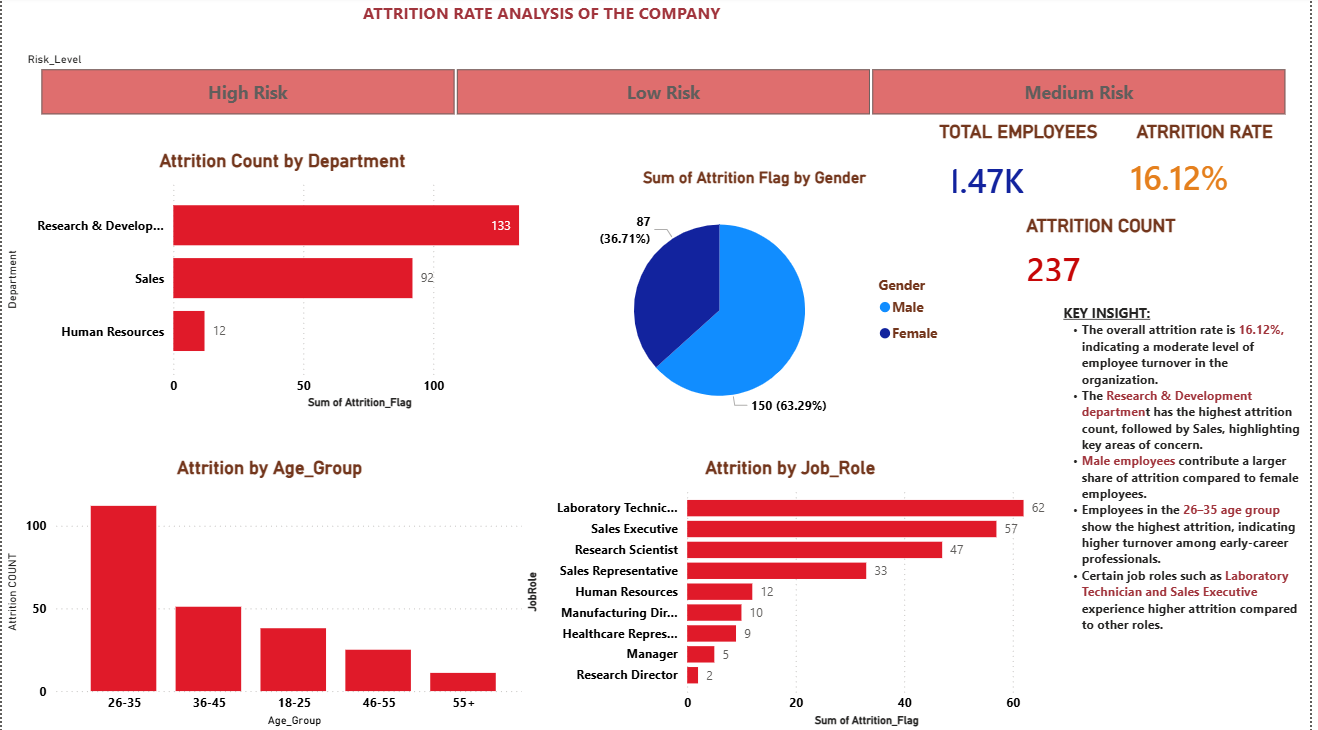

What the dashboard file says about the page in this screenshot:
{"tool":"powerbi","page":{"name":"attrition basic analysis ","canvas":[1280,720],"ordinal":0},"visuals":[{"type":"cardVisual","title":"TOTAL EMPLOYEES","fields":{"Data":["CountNonNull(WA_Fn-UseC_-HR-Employee-Attrition.EmployeeNumber)"]},"box":[905,122.5,178.8,91.2],"z":0},{"type":"cardVisual","title":"ATTRITION COUNT","fields":{"Data":["Sum(WA_Fn-UseC_-HR-Employee-Attrition.Attrition_Flag)"]},"box":[983.8,213.8,183.8,82.5],"z":1000},{"type":"cardVisual","title":"ATRRITION RATE","fields":{"Data":["WA_Fn-UseC_-HR-Employee-Attrition.Attrition Rate"]},"box":[1085,122.5,183.8,85],"z":2000},{"type":"clusteredBarChart","title":"Attrition Count by Department","fields":{"Category":["WA_Fn-UseC_-HR-Employee-Attrition.Department"],"Y":["Sum(WA_Fn-UseC_-HR-Employee-Attrition.Attrition_Flag)"]},"box":[0,150,548.8,258.8],"z":3000},{"type":"pieChart","title":"Sum of Attrition Flag by Gender","fields":{"Category":["WA_Fn-UseC_-HR-Employee-Attrition.Gender"],"Y":["Sum(WA_Fn-UseC_-HR-Employee-Attrition.Attrition_Flag)"]},"box":[541.2,168.8,388.8,260],"z":4000},{"type":"lineStackedColumnComboChart","title":"Attrition by  Age_Group","fields":{"Category":["WA_Fn-UseC_-HR-Employee-Attrition.Age_Group"],"Y":["Sum(WA_Fn-UseC_-HR-Employee-Attrition.Attrition_Flag)"]},"box":[0,451.2,523.8,268.8],"z":5000},{"type":"barChart","title":" Attrition by Job_Role","fields":{"Category":["WA_Fn-UseC_-HR-Employee-Attrition.JobRole"],"Y":["Sum(WA_Fn-UseC_-HR-Employee-Attrition.Attrition_Flag)"]},"box":[508.8,451.2,525,268.8],"z":6000},{"type":"slicer","fields":{"Values":["WA_Fn-UseC_-HR-Employee-Attrition.Risk_Level"]},"box":[12.5,50,1267.5,72.5],"z":7000},{"type":"textbox","box":[275,0,510,50],"z":8000},{"type":"textbox","box":[1033.8,296.2,246.2,423.8],"z":9000}]}

Visuals, with their boxes in screenshot pixels (x1, y1, x2, y2), scaled from the page's 1280x720 canvas onto the 1318x730 screenshot:
"TOTAL EMPLOYEES" cardVisual: <region>932, 124, 1116, 217</region>
"ATTRITION COUNT" cardVisual: <region>1013, 217, 1202, 300</region>
"ATRRITION RATE" cardVisual: <region>1117, 124, 1306, 210</region>
"Attrition Count by Department" clusteredBarChart: <region>0, 152, 565, 414</region>
"Sum of Attrition Flag by Gender" pieChart: <region>557, 171, 958, 435</region>
"Attrition by  Age_Group" lineStackedColumnComboChart: <region>0, 457, 539, 729</region>
" Attrition by Job_Role" barChart: <region>524, 457, 1064, 729</region>
slicer - WA_Fn-UseC_-HR-Employee-Attrition.Risk_Level: <region>13, 51, 1317, 124</region>
textbox: <region>283, 0, 808, 51</region>
textbox: <region>1064, 300, 1317, 729</region>
